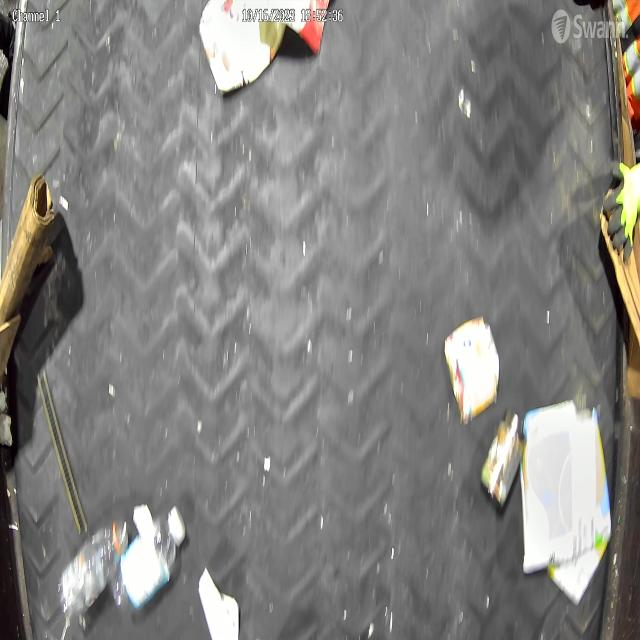can: (444, 315, 501, 424), (481, 409, 526, 507)
plastic_bottle: (110, 505, 186, 613), (58, 520, 128, 616)
